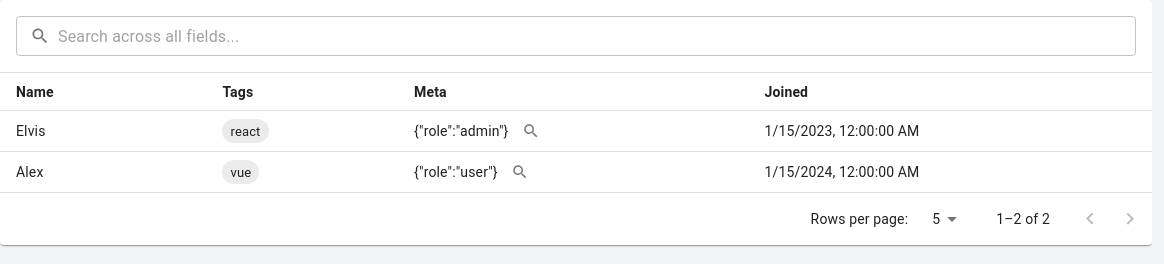
Scenario: DynamicTable › Search › filters rows case-insensitively, clears search, and searches complex data types
In the field with placeholder "Search across all fields...": {"x": 597, "y": 36} [58,16,1136,56], type "ELVIS"
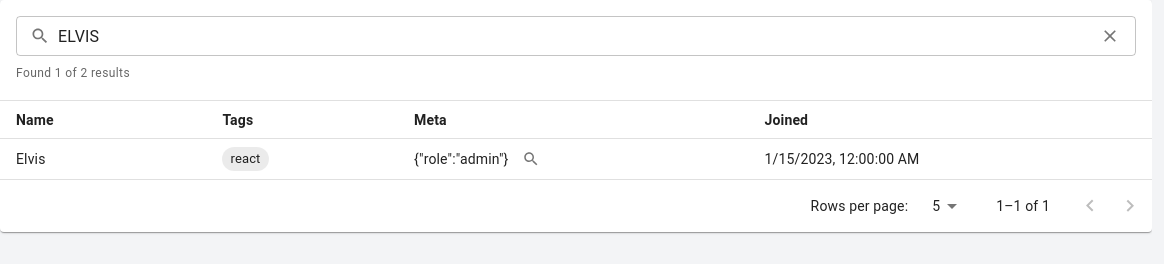
Expected: the text "Elvis" is shown, [16,151,46,167]
Expected: the text "Alex" is gone
Replace the text in the field with placeholder "Search across all fields..." with "react": {"x": 572, "y": 36} [58,16,1087,56]
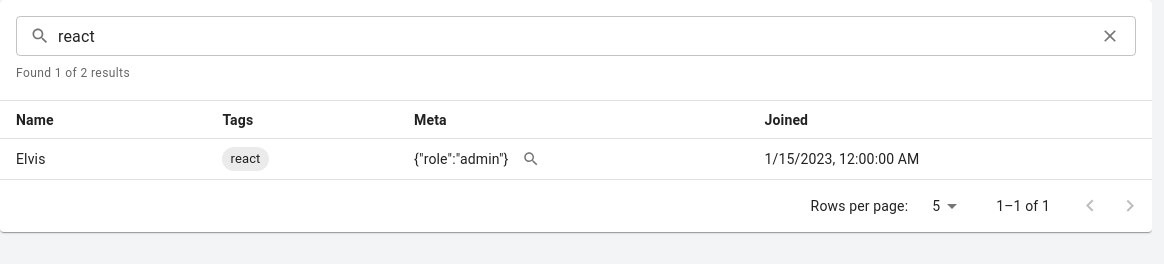
Expected: the text "react" is shown, [230,152,261,166]
Expected: the text "vue" is not shown
Replace the text in the field with placeholder "Search across all fields..." with "admin": {"x": 572, "y": 36} [58,16,1087,56]
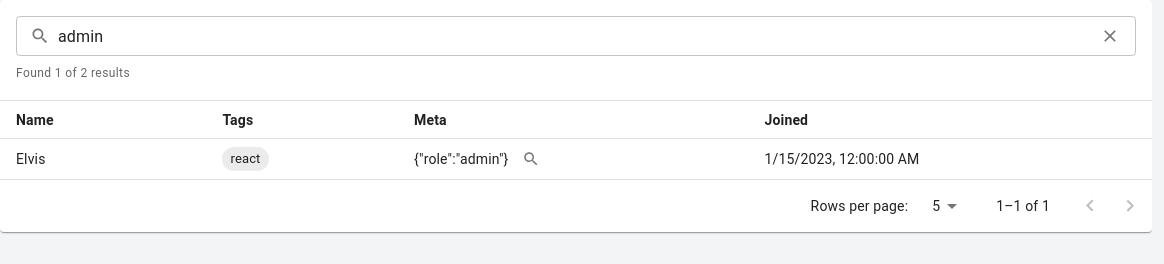
Expected: the text "Elvis" is shown, [16,151,46,167]
Expected: the text "Alex" is not shown
Replace the text in the field with placeholder "Search across all fields..." with "2023": {"x": 572, "y": 36} [58,16,1087,56]
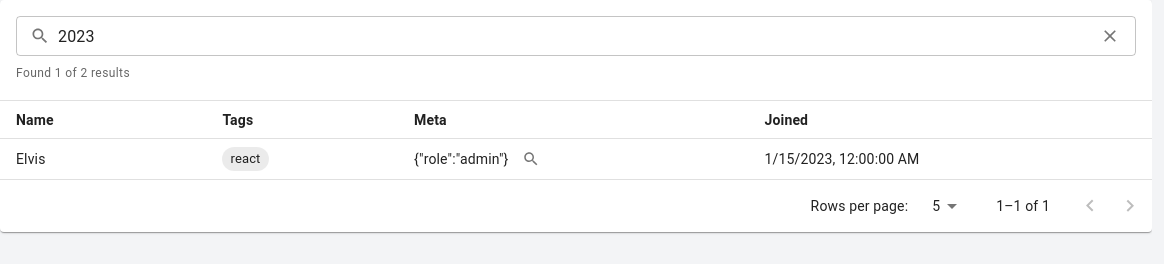
Expected: the text "Elvis" is shown, [16,151,46,167]
Expected: the text "Alex" is not shown
Click the 1st button: {"x": 1110, "y": 36} [1095,21,1125,51]
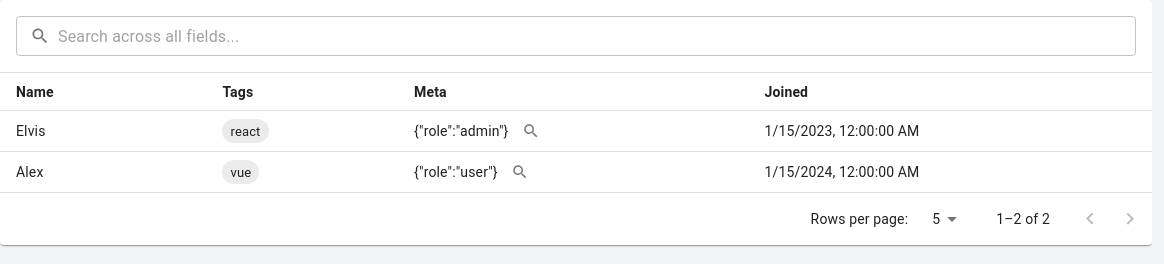
Expected: the text "Elvis" is shown, [16,123,46,139]
Expected: the text "Alex" is shown, [16,164,44,180]
